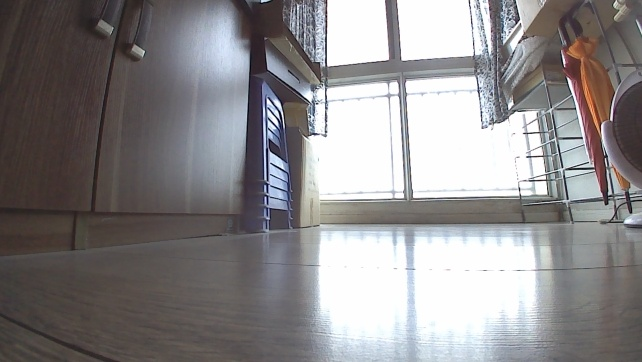wire: (606, 199, 641, 226)
